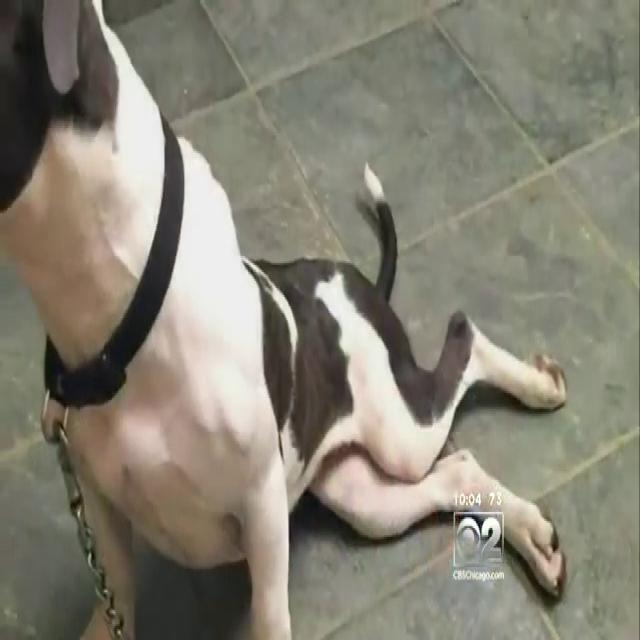normal_animals: (3, 3, 572, 633)
